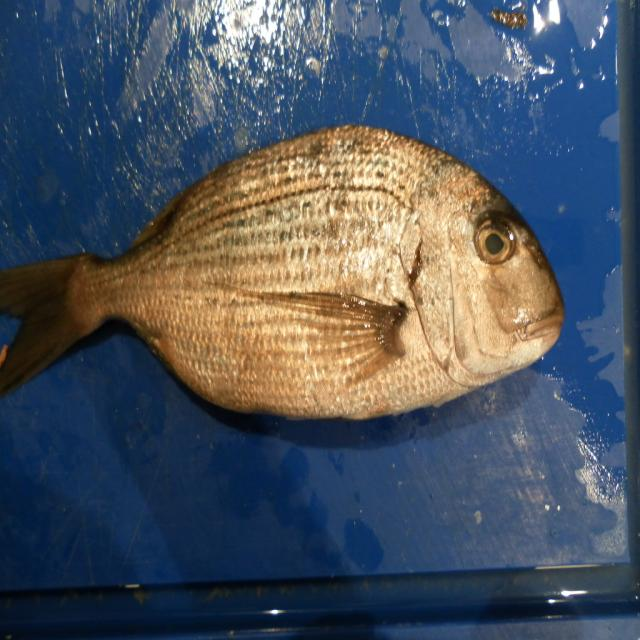Red-Sea-Bream-mercan-: (0, 124, 566, 423)
